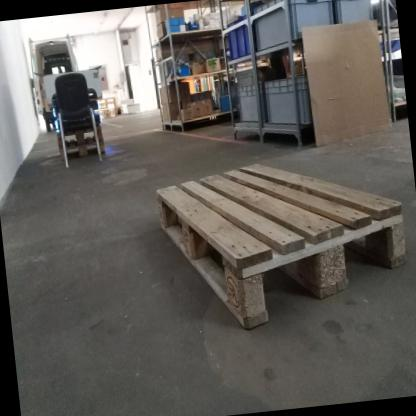BoxFace: (152, 157, 411, 338)
